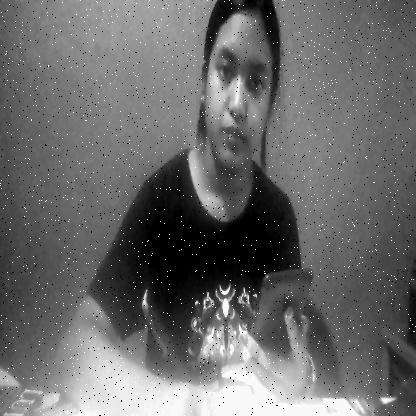Normal: (196, 5, 280, 178)
